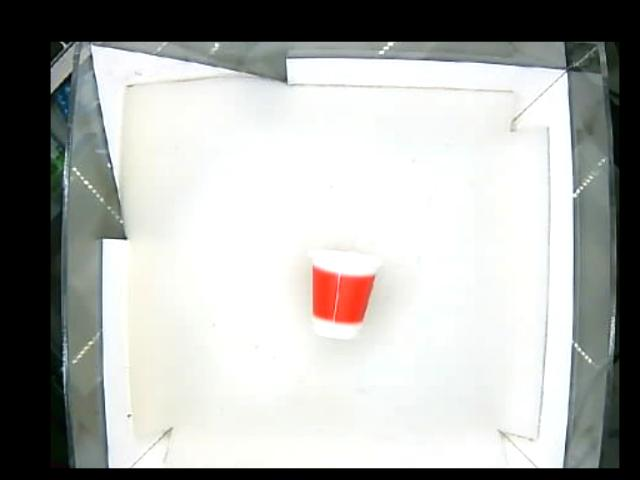Cup: (305, 248, 380, 339)
